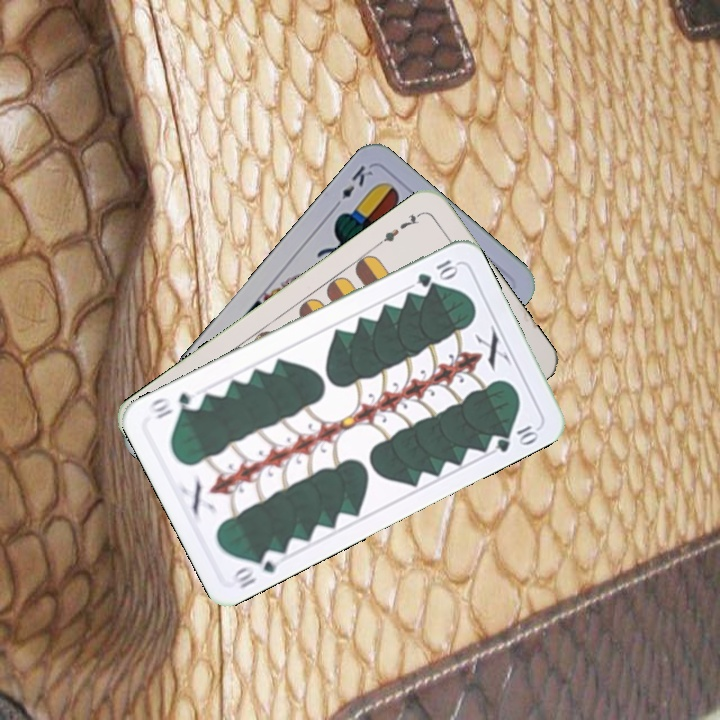E7: (373, 208, 425, 248)
EK: (329, 160, 376, 212)
G10: (227, 546, 286, 591), (413, 255, 461, 290)
